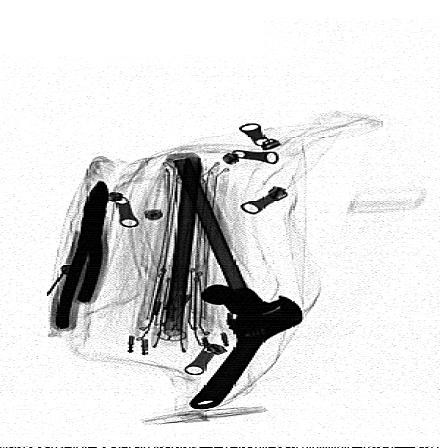Hammer: (160, 154, 296, 316)
Pliers: (48, 178, 113, 331)
Wrench: (187, 292, 306, 411)
